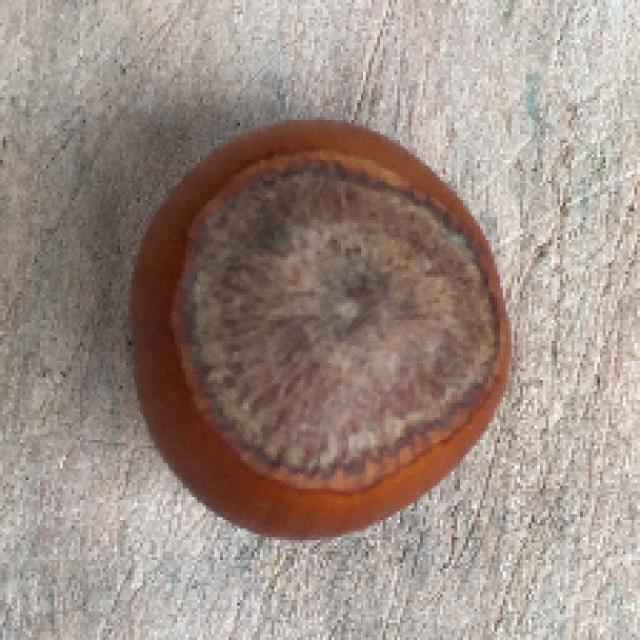qualityHazelnut: (118, 110, 516, 550)
